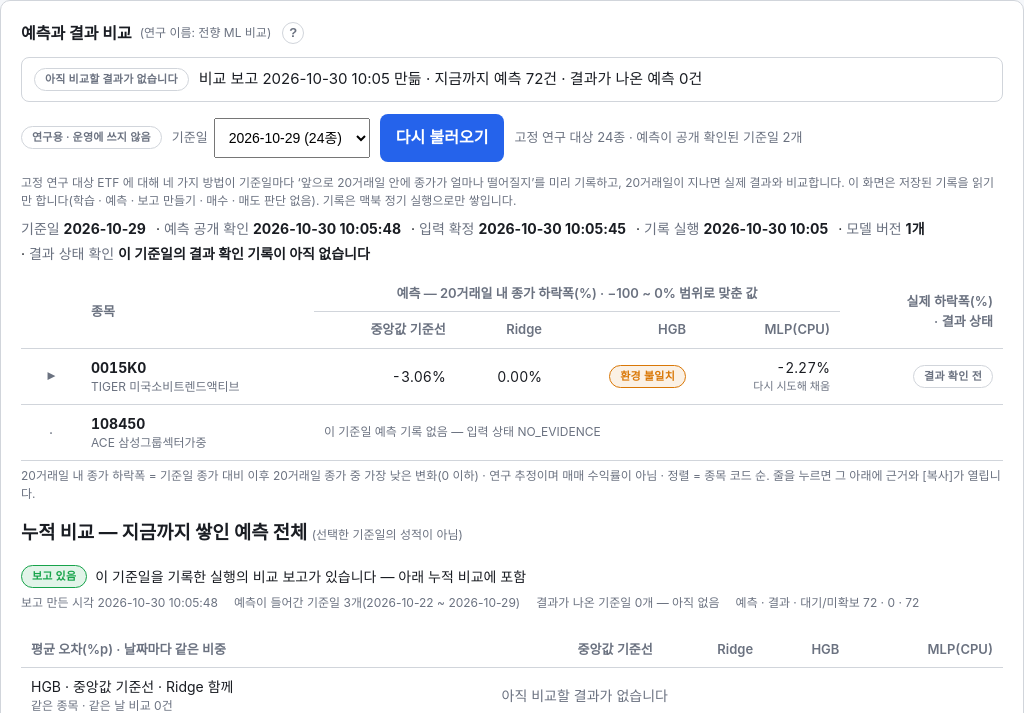
ForwardComparisonCard › 복사 실패는 성공처럼 보이지 않음
This screenshot has width=1024, height=713.
Click the button named "0015K0 상세". click: click(51, 376)
box: [31,356,71,396]
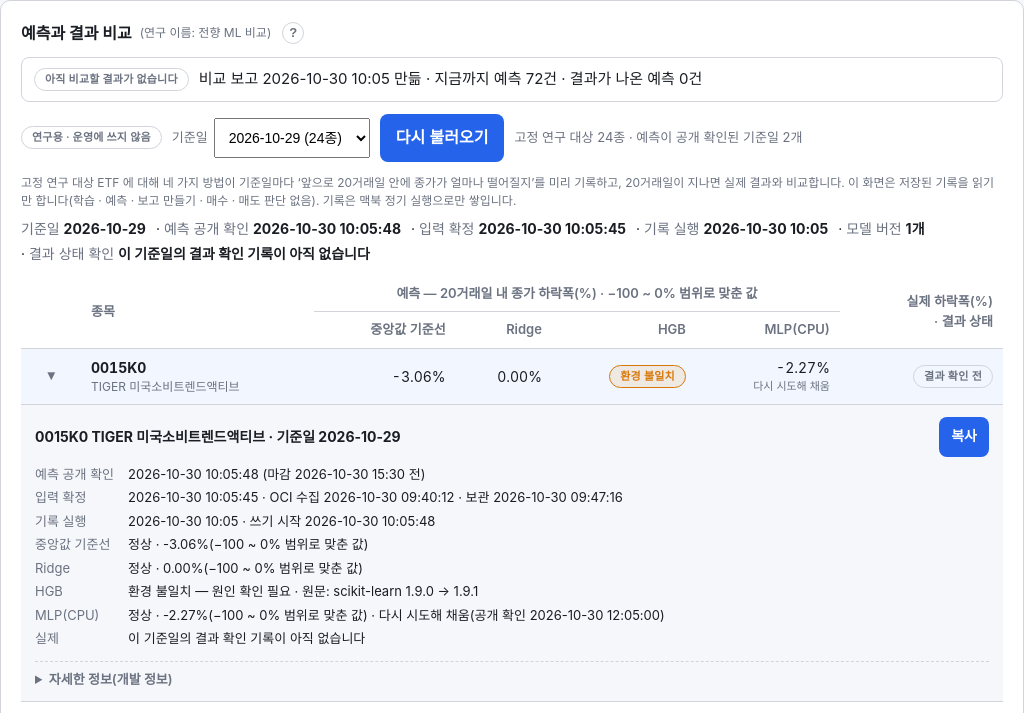
Click the button "복사". click: click(964, 436)
box: [939,416,989,456]
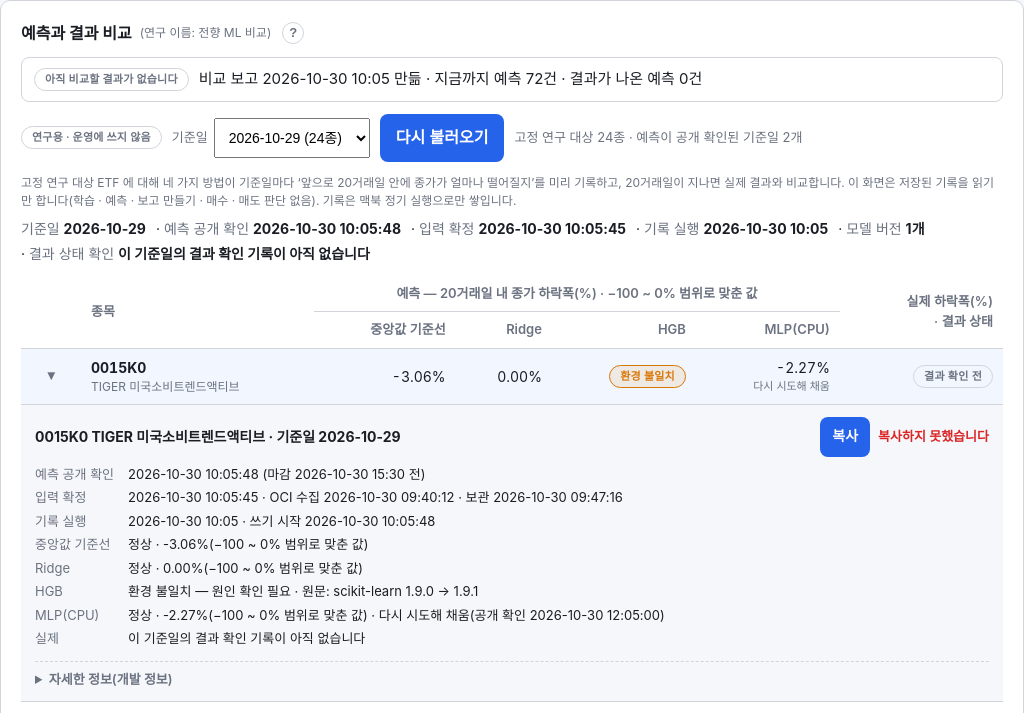
Expected: the text "복사하지 못했습니다" is shown, [878,427,989,446]
